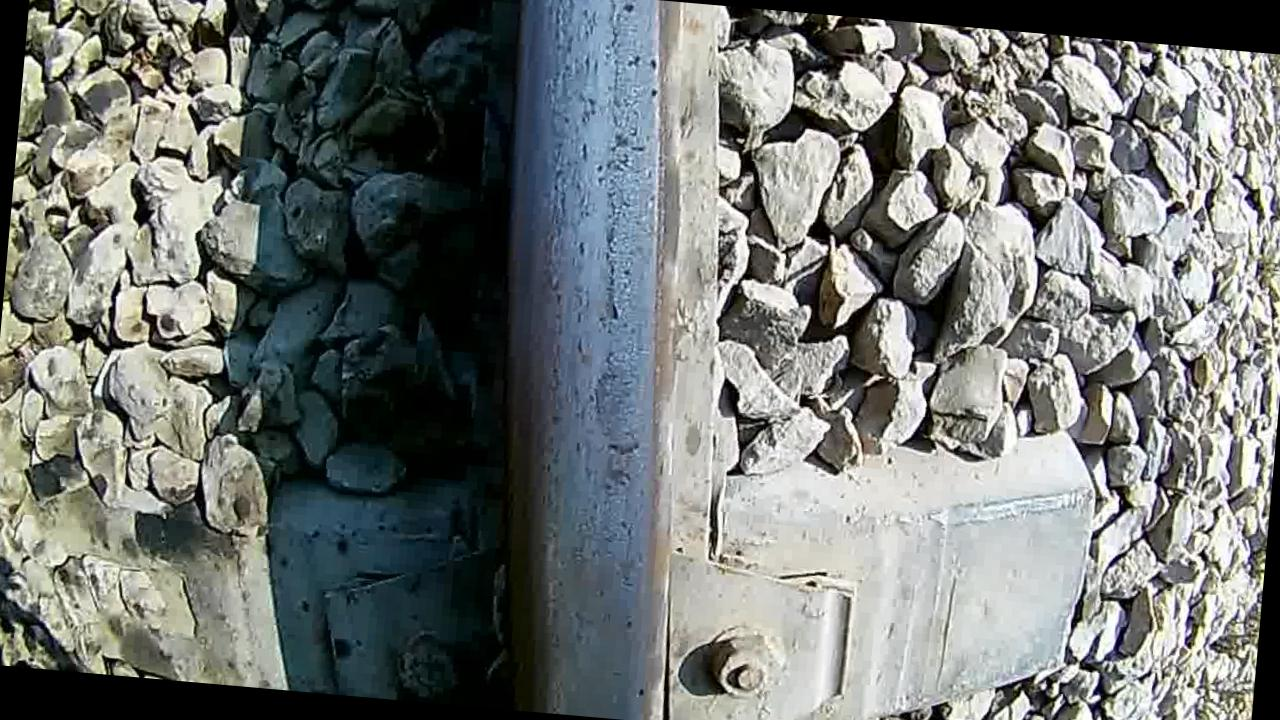crack: (468, 0, 713, 718)
